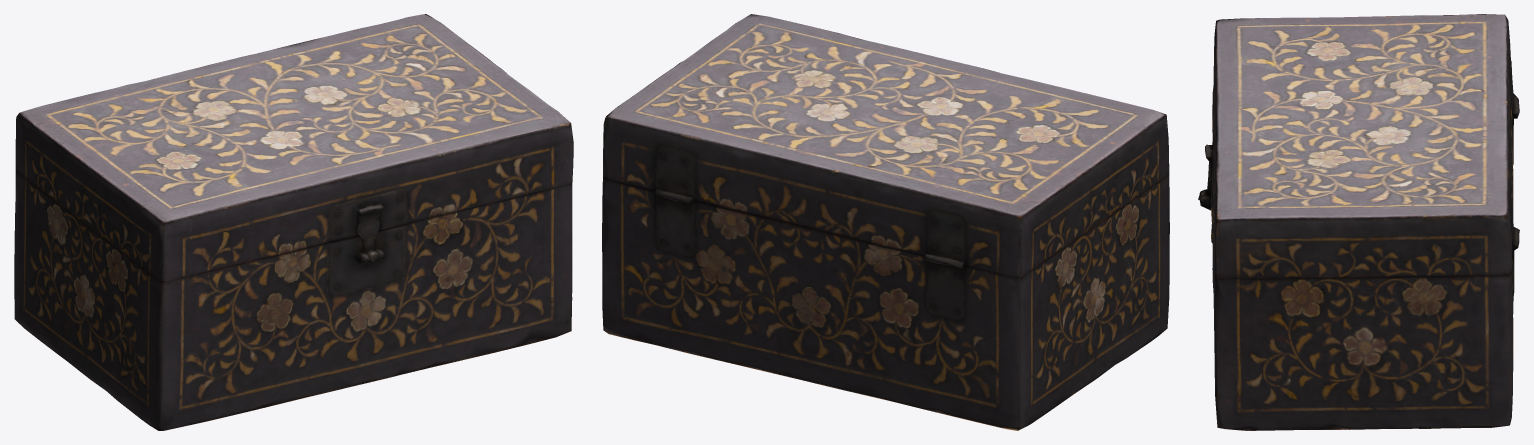
The model's file is SM_Ox_horn_Box.fbx.
The picture shows the model from 3 angles, left to right: view 1: azimuth 30°, elevation 25°; view 2: azimuth 150°, elevation 25°; view 3: azimuth 270°, elevation 25°; orthographic projection.
Parts seen in each view (by area): view 1: KCDF_2022_prop_Ox_horn_Box_Mesh; view 2: KCDF_2022_prop_Ox_horn_Box_Mesh; view 3: KCDF_2022_prop_Ox_horn_Box_Mesh.
Part boxes in pixels (x1,y1,x2,y2): KCDF_2022_prop_Ox_horn_Box_Mesh: (14, 14, 573, 430); KCDF_2022_prop_Ox_horn_Box_Mesh: (602, 14, 1169, 430); KCDF_2022_prop_Ox_horn_Box_Mesh: (1198, 14, 1519, 430).
Size of the model in its own units: 65.03 by 32.78 by 43.48.
1 material, 1 textured.
